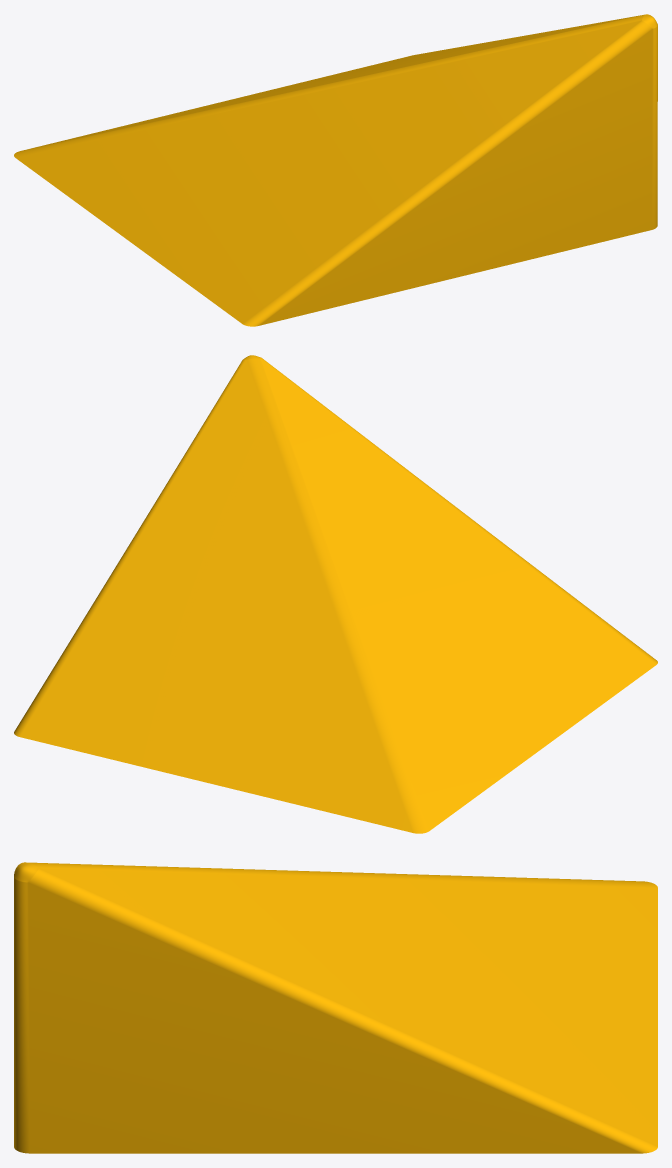
Rendered from Raised_Corner_Half.fbx.
3 renders of one model, top to bottom at view 1: azimuth 30°, elevation 25°; view 2: azimuth 150°, elevation 25°; view 3: azimuth 270°, elevation 25°, orthographic. The views are drawn at different scales.
Visible parts, largest first — view 1: Raised_Corner_Half; view 2: Raised_Corner_Half; view 3: Raised_Corner_Half.
Part boxes in pixels (x1,y1,x2,y2): Raised_Corner_Half: (14, 14, 657, 326); Raised_Corner_Half: (14, 355, 657, 833); Raised_Corner_Half: (14, 862, 657, 1153).
Size of the model in its own units: 1 by 0.483 by 1.
